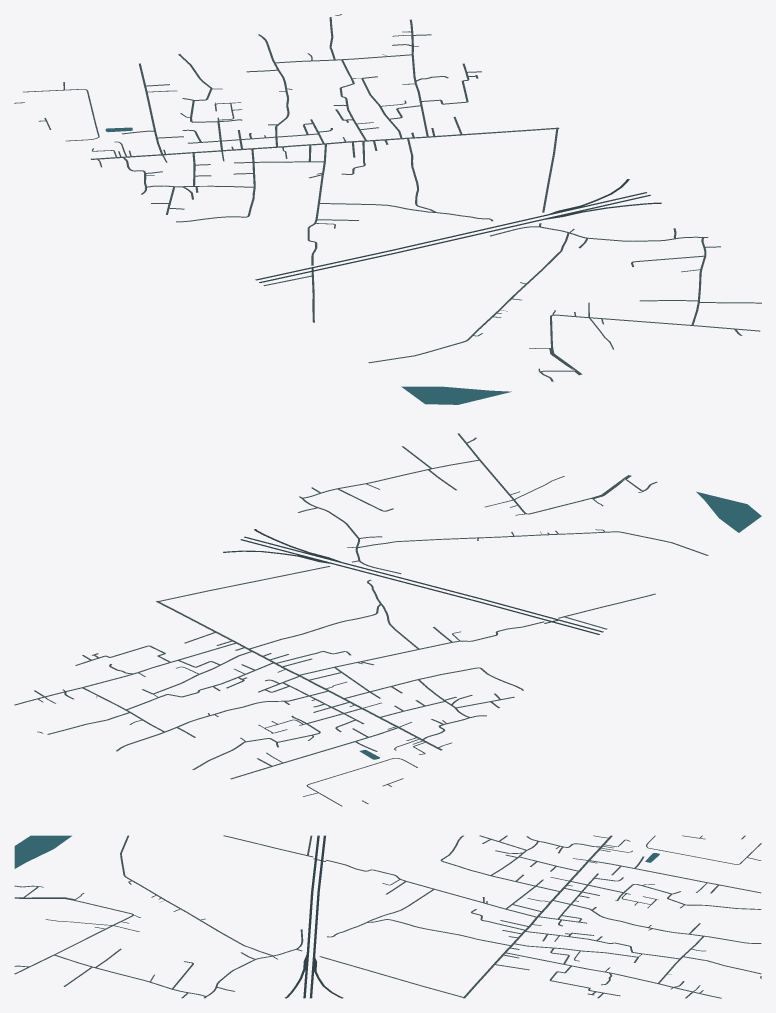
3 views of the same model, one above another, from view 1: azimuth 30°, elevation 25°; view 2: azimuth 150°, elevation 25°; view 3: azimuth 270°, elevation 25° (orthographic). The views are drawn at different scales.
Parts seen in each view (by area): view 1: street, major, water; view 2: street, major, water; view 3: street, major, water.
Boxes of the visible parts, left/top/right/bottom form: street: left=14, top=14, right=761, bottom=381; major: left=255, top=179, right=661, bottom=282; water: left=105, top=127, right=511, bottom=404; street: left=14, top=433, right=708, bottom=806; major: left=223, top=529, right=603, bottom=634; water: left=359, top=491, right=761, bottom=759; street: left=14, top=835, right=761, bottom=998; major: left=285, top=835, right=343, bottom=998; water: left=14, top=835, right=659, bottom=868.
Size of the model in its own units: 1035 by 5.22 by 2003.
